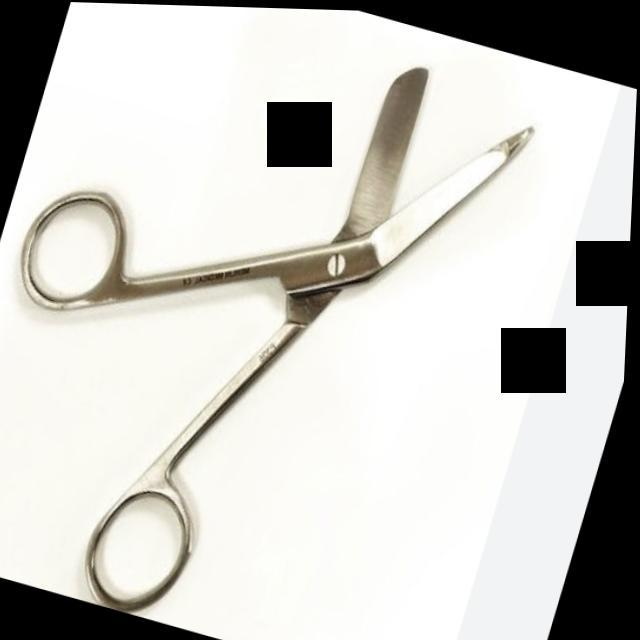Bandage Sciccors: (0, 0, 555, 640)
